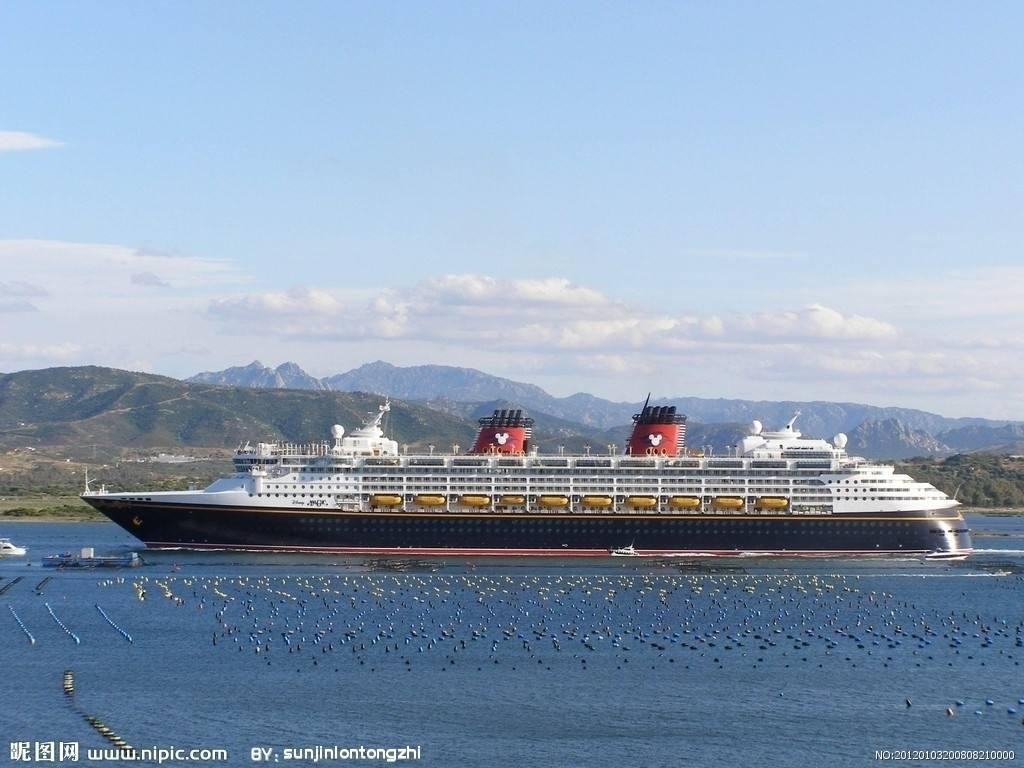youlun: (73, 400, 979, 558)
